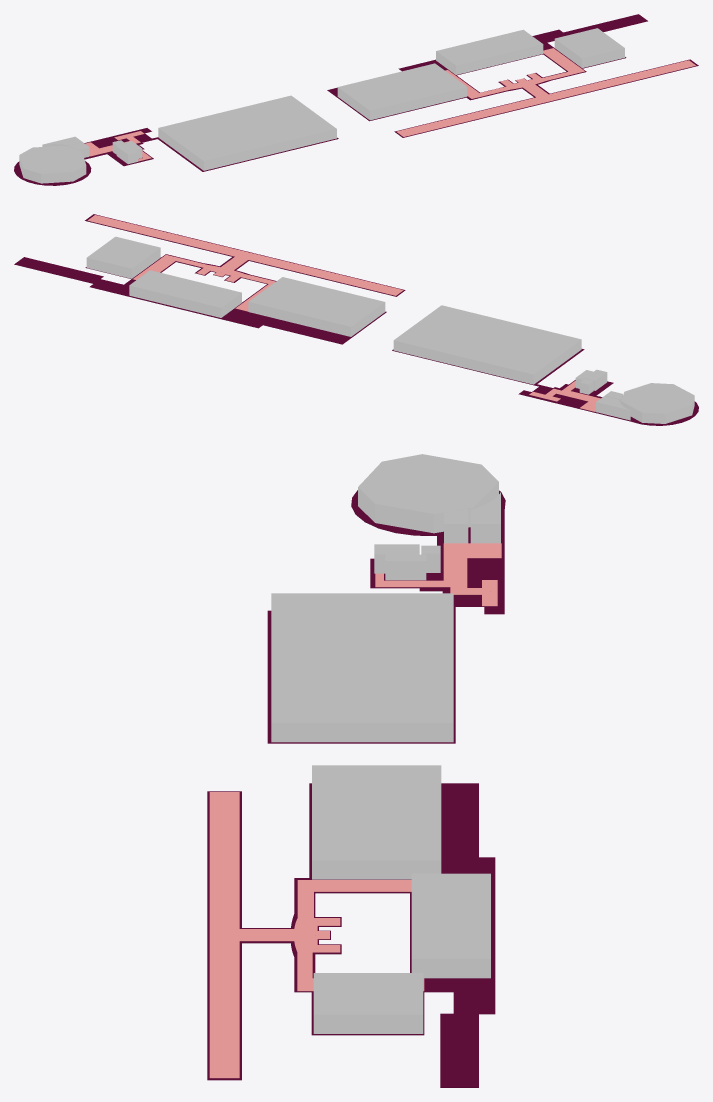
The model's file is njc-b1-v3-11-4.glb.
3 views of the same model, one above another, from view 1: azimuth 30°, elevation 25°; view 2: azimuth 150°, elevation 25°; view 3: azimuth 270°, elevation 25° (orthographic). The views are drawn at different scales.
Parts seen in each view (by area): view 1: None, Foot, Base, Mtoilet; view 2: None, Base, Foot, Mtoilet; view 3: None, Base, Foot, Mtoilet.
Boxes of the visible parts, x1,y1,x2,y2 form: None: [19, 28, 624, 183]; Foot: [85, 48, 695, 161]; Base: [14, 14, 698, 185]; Mtoilet: [116, 141, 142, 164]; None: [86, 236, 694, 423]; Base: [14, 214, 698, 425]; Foot: [87, 215, 600, 411]; Mtoilet: [575, 369, 607, 390]; None: [271, 454, 500, 1033]; Base: [207, 490, 505, 1087]; Foot: [209, 543, 501, 1078]; Mtoilet: [374, 544, 426, 580].
Size of what is drawn, in the model's own units: 13.62 by 0.2 by 2.78.
